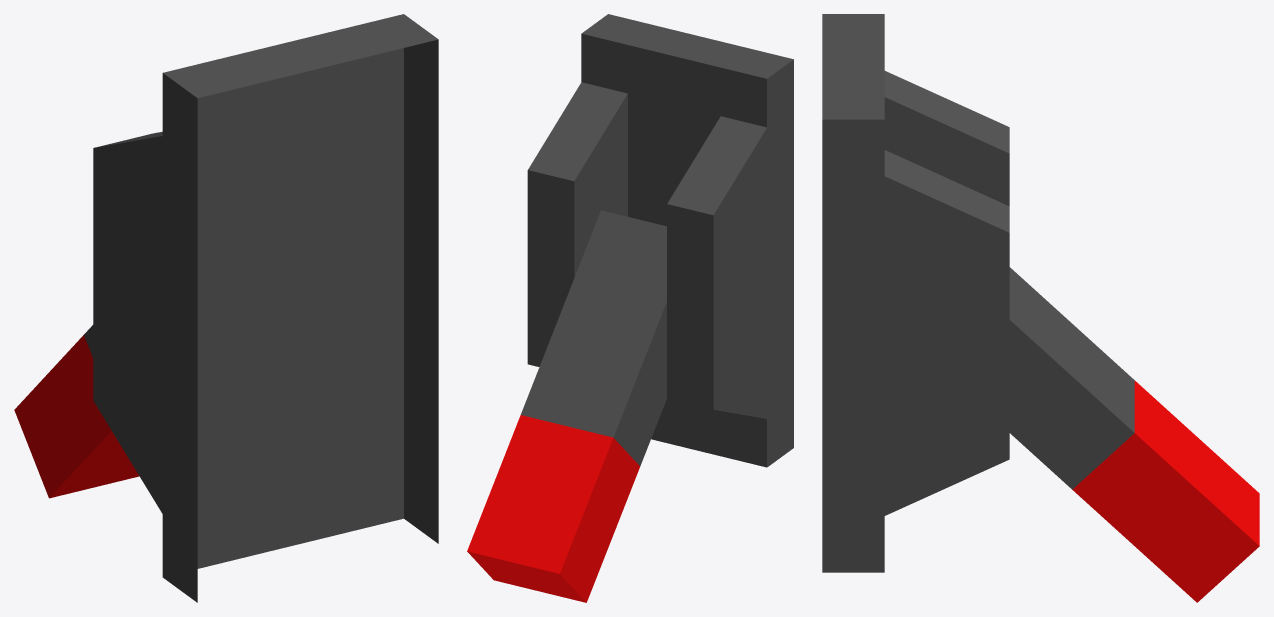
File: leverdown.obj
3 renders of one model, left to right at view 1: azimuth 30°, elevation 25°; view 2: azimuth 150°, elevation 25°; view 3: azimuth 270°, elevation 25°, orthographic. The views are drawn at different scales.
Parts seen in each view (by area): view 1: leverdown_back; view 2: leverdown_back; view 3: leverdown_back.
Boxes of the visible parts, x1,y1,x2,y2 form: leverdown_back: (14,14,438,602); leverdown_back: (467,14,793,602); leverdown_back: (822,14,1259,602).
Size of the model in its own units: 0.32 by 0.72 by 0.56.
